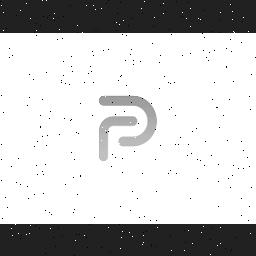p: (96, 89, 160, 163)
